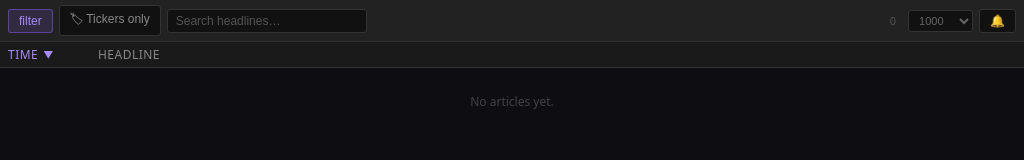
Scenario: Ticker mode toggle › clicking toggle twice returns to filter
Click the button with test id "ticker-mode-toggle".
click(30, 20)  # box [8,8,53,32]
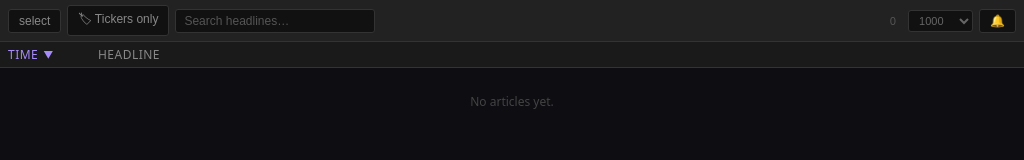
Click the button with test id "ticker-mode-toggle".
click(35, 20)  # box [8,8,61,32]
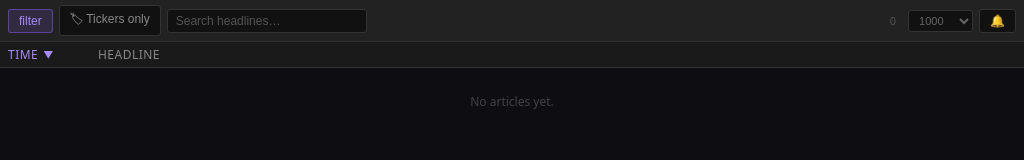
Now the button with test id "ticker-mode-toggle" reads "filter", box [8,8,53,32]
